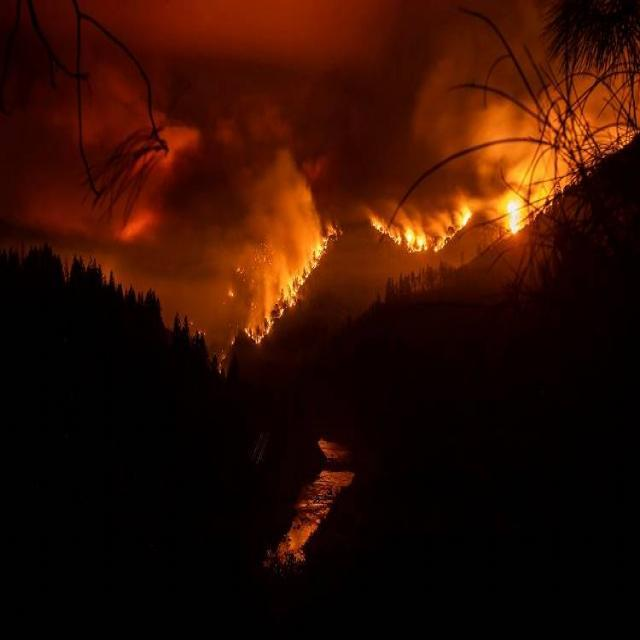Fire: (374, 134, 574, 262), (231, 218, 330, 341)
